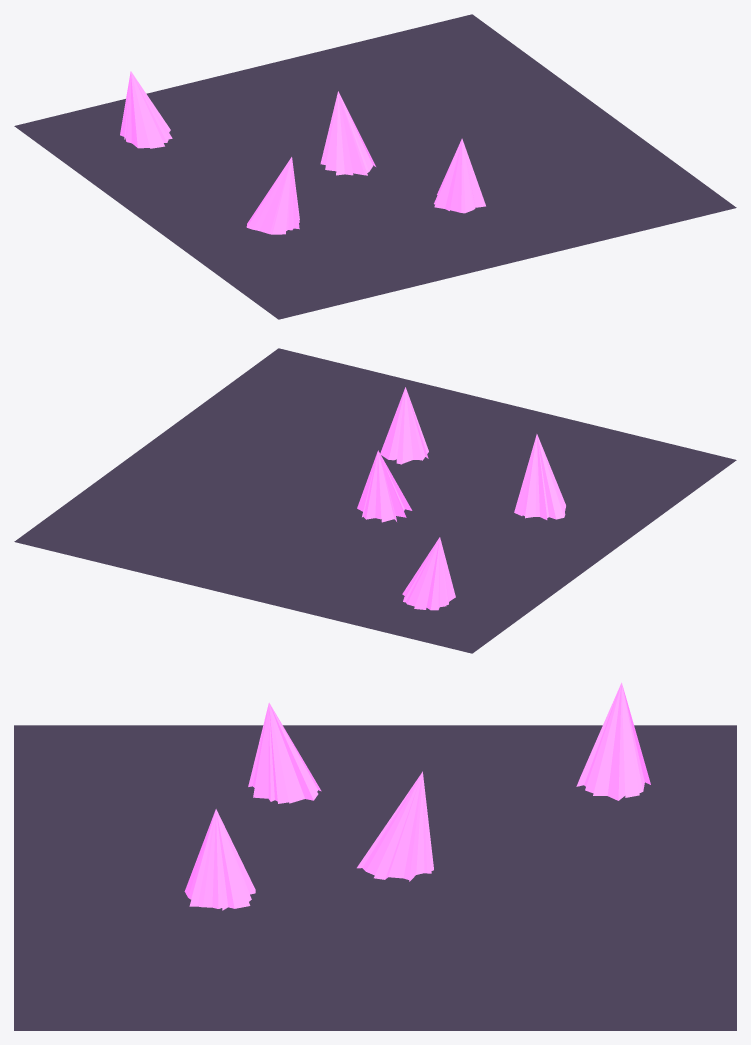
File: corrupted_tile.glb
The picture shows the model from 3 angles, top to bottom: view 1: azimuth 30°, elevation 25°; view 2: azimuth 150°, elevation 25°; view 3: azimuth 270°, elevation 25°; orthographic projection. The views are drawn at different scales.
Parts seen in each view (by area): view 1: CorruptedTile, CorruptShard_0, CorruptShard_3, CorruptShard_2, CorruptShard_1; view 2: CorruptedTile, CorruptShard_2, CorruptShard_3, CorruptShard_0, CorruptShard_1; view 3: CorruptedTile, CorruptShard_3, CorruptShard_0, CorruptShard_1, CorruptShard_2.
Boxes of the visible parts, x1,y1,x2,y2 form: CorruptedTile: (14,14,736,319); CorruptShard_0: (320,91,375,175); CorruptShard_3: (120,71,172,148); CorruptShard_2: (246,157,299,234); CorruptShard_1: (434,138,485,213); CorruptedTile: (14,348,736,653); CorruptShard_2: (514,434,565,519); CorruptShard_3: (402,537,455,610); CorruptShard_0: (357,450,412,522); CorruptShard_1: (380,387,428,464); CorruptedTile: (14,725,736,1030); CorruptShard_3: (576,682,650,800); CorruptShard_0: (357,771,433,881); CorruptShard_1: (184,809,255,910); CorruptShard_2: (248,702,321,803).
Size of the model in its own units: 1 by 0.1817 by 1.
